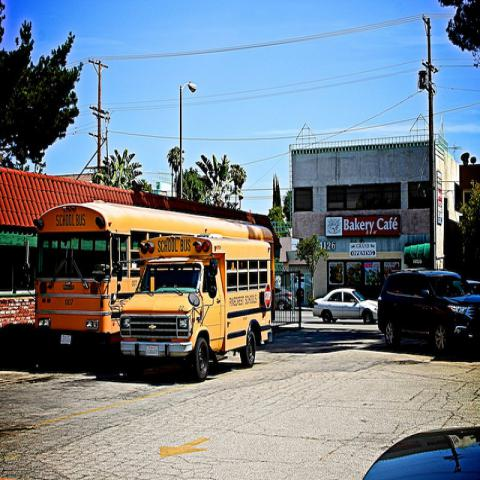bus: (35, 199, 274, 334), (120, 238, 274, 379)
car: (377, 269, 479, 356), (367, 423, 479, 473), (314, 288, 378, 325)
truck: (376, 270, 479, 356)
